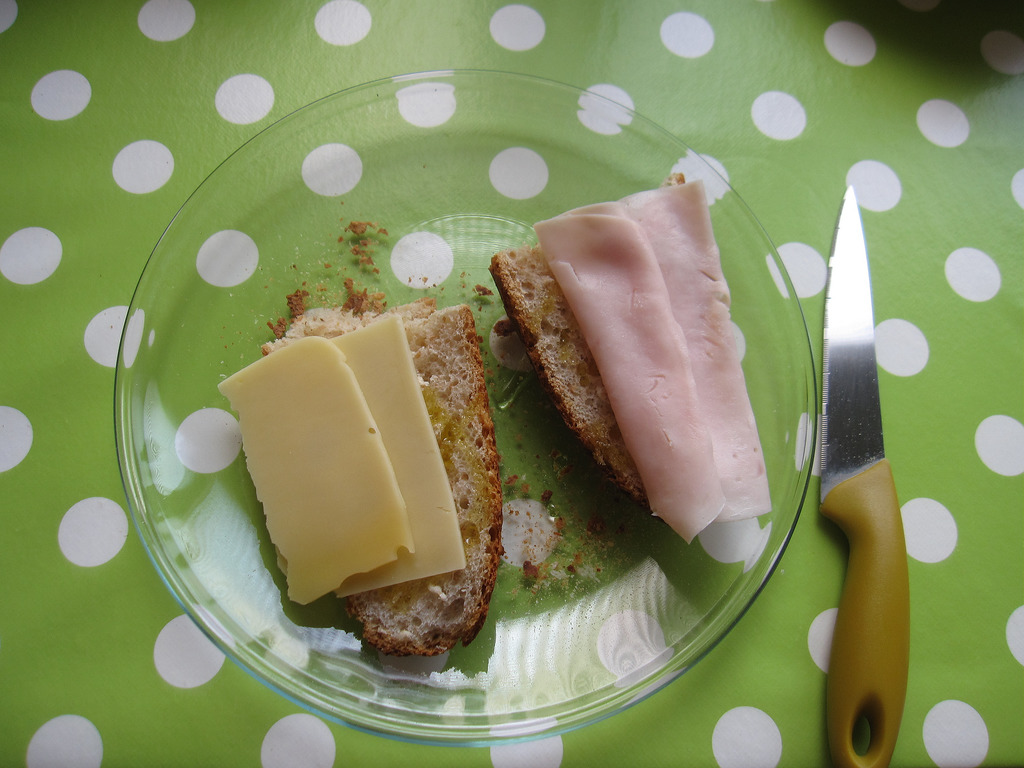slice of bread: (276, 311, 503, 653), (486, 239, 661, 527)
